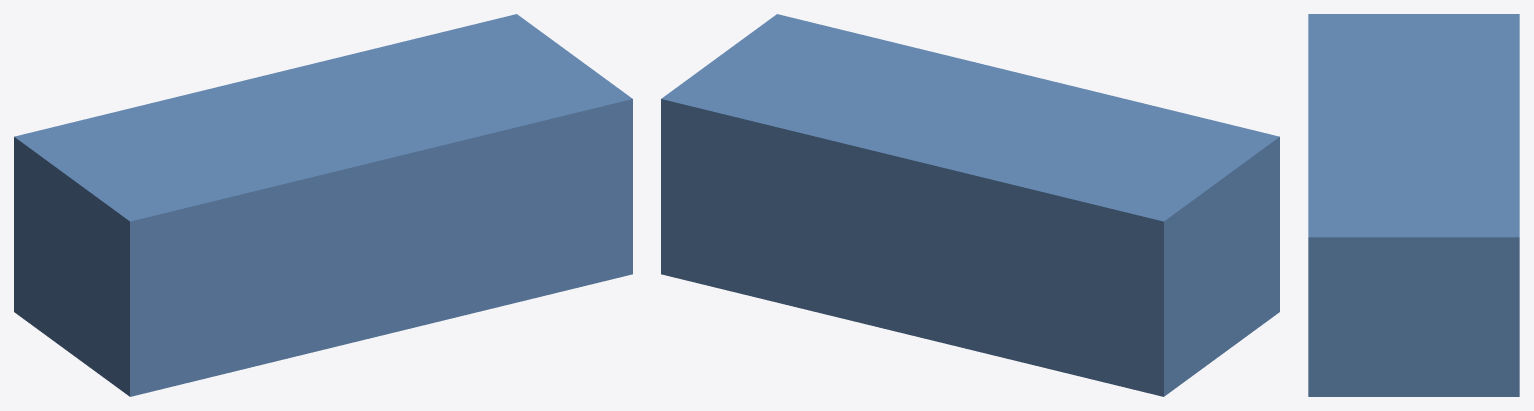
The model's file is wet_hull_streak.glb.
3 renders of one model, left to right at view 1: azimuth 30°, elevation 25°; view 2: azimuth 150°, elevation 25°; view 3: azimuth 270°, elevation 25°, orthographic. The views are drawn at different scales.
Visible parts, largest first — view 1: hull; view 2: hull; view 3: hull.
Part boxes in pixels (bbox=[...]): hull: bbox=[14, 14, 632, 396]; hull: bbox=[661, 14, 1279, 396]; hull: bbox=[1308, 14, 1519, 396].
Bounding box in the file's own units: 3 × 1 × 1.2.
